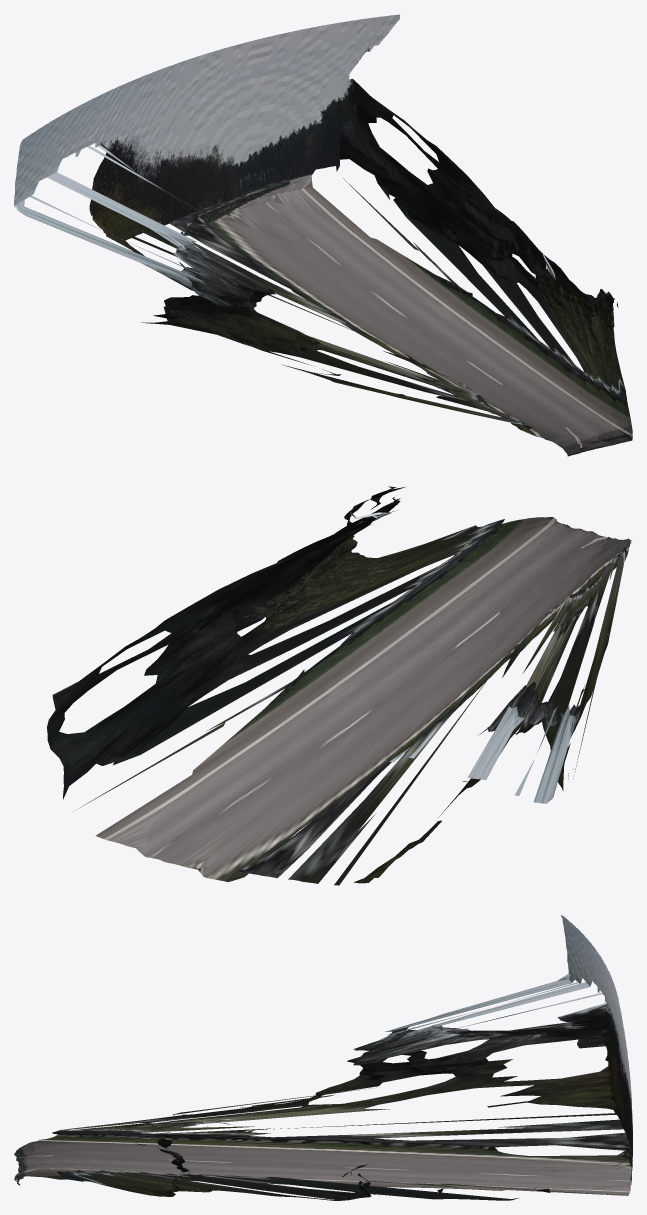
3 views of the same model, one above another, from view 1: azimuth 30°, elevation 25°; view 2: azimuth 150°, elevation 25°; view 3: azimuth 270°, elevation 25° (orthographic). The views are drawn at different scales.
Parts seen in each view (by area): view 1: defaultobject; view 2: defaultobject; view 3: defaultobject.
Part boxes in pixels (bbox=[...]): defaultobject: bbox=[14, 14, 632, 456]; defaultobject: bbox=[47, 486, 631, 885]; defaultobject: bbox=[14, 915, 632, 1200].
Bounding box in the file's own units: 30.24 × 12.47 × 44.42.
Materials: 1 (1 with a texture image).
